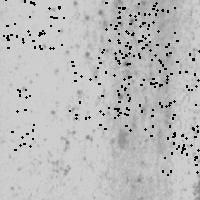pitted_surface: (31, 1, 165, 151), (69, 57, 129, 117), (118, 3, 176, 62), (99, 76, 155, 135), (101, 2, 156, 60), (3, 0, 63, 48), (159, 47, 200, 105), (162, 114, 200, 174), (0, 89, 33, 149), (171, 103, 200, 162)
